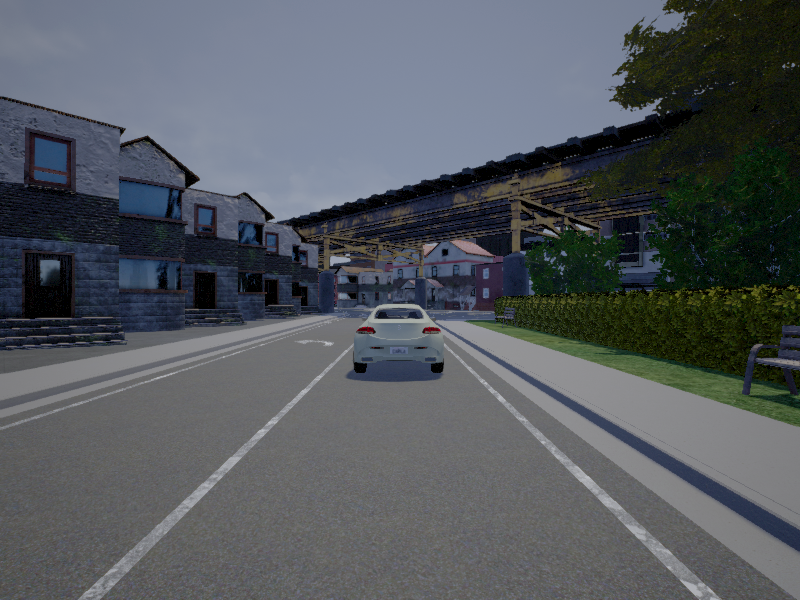Benign: (352, 303, 445, 376)
